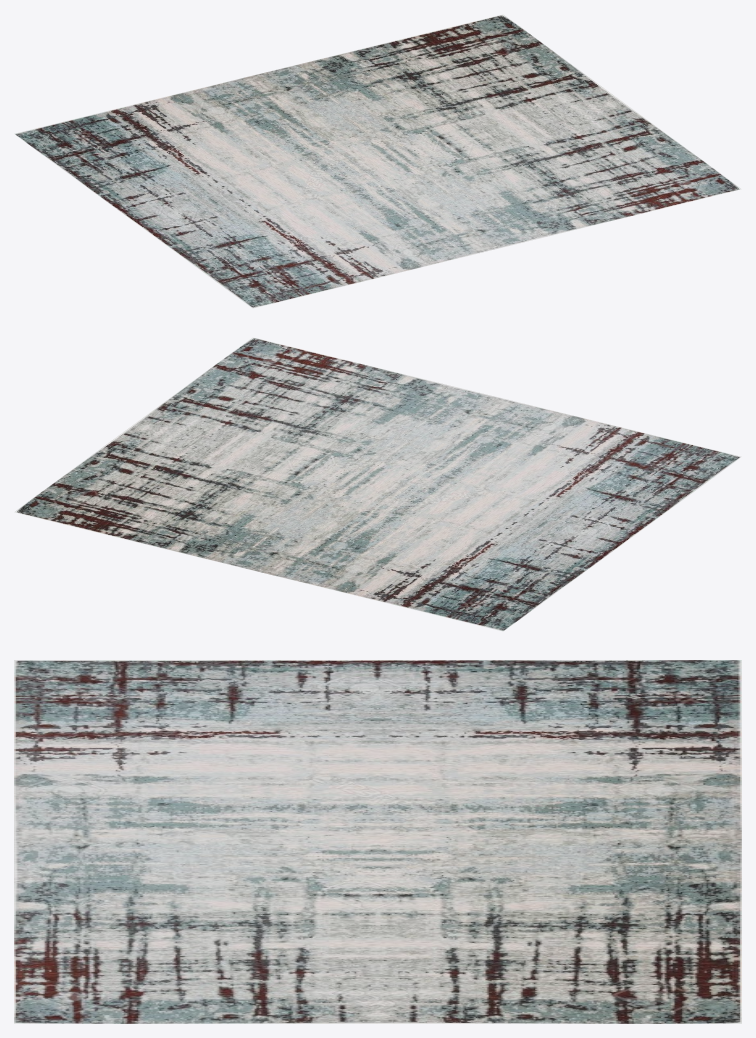
Rendered from carpet.gltf.
3 views of the same model, one above another, from view 1: azimuth 30°, elevation 25°; view 2: azimuth 150°, elevation 25°; view 3: azimuth 270°, elevation 25° (orthographic). The views are drawn at different scales.
Visible parts, largest first — view 1: Plane.001; view 2: Plane.001; view 3: Plane.001.
Part boxes in pixels (x1,y1,x2,y2): Plane.001: (14,14,741,308); Plane.001: (14,337,741,631); Plane.001: (14,660,741,1023).
Bounding box in the file's own units: 3.44 × 0 × 2.91.
Materials: 1 (1 with a texture image).
